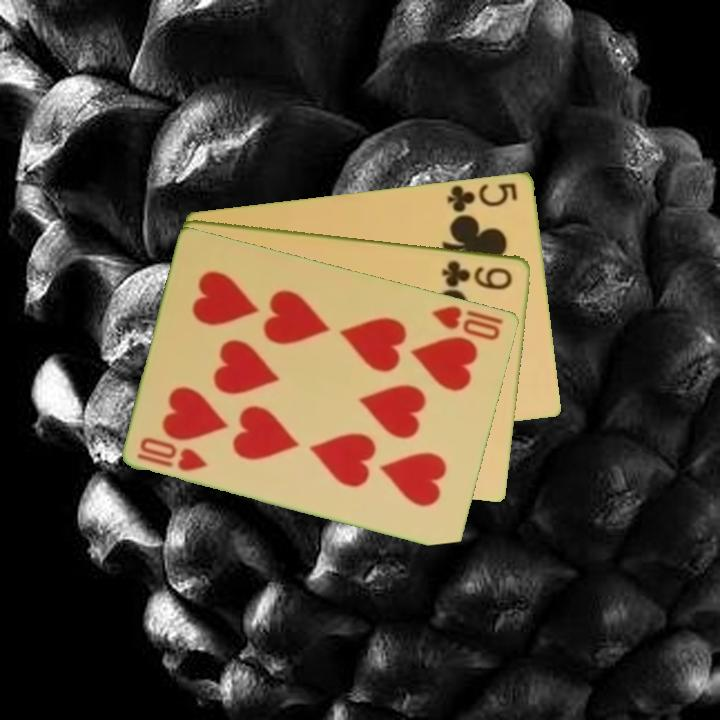10h: (429, 301, 507, 343), (134, 433, 211, 474)
5c: (444, 178, 520, 215)
9c: (438, 257, 516, 292)
